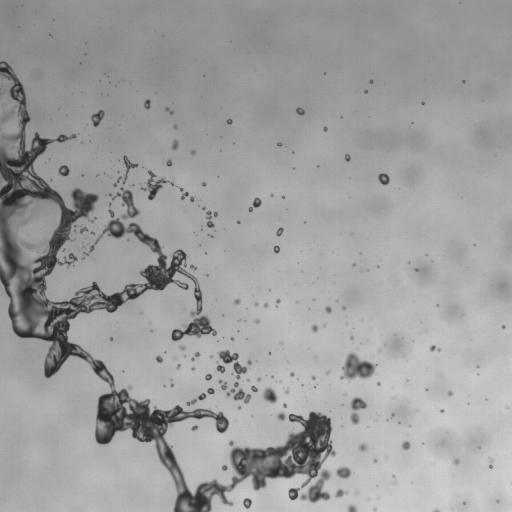droplet: (340, 352, 377, 381), (218, 349, 251, 379), (142, 170, 174, 199), (226, 382, 251, 403), (350, 397, 366, 424), (262, 387, 277, 403), (91, 110, 104, 126), (336, 466, 351, 479), (206, 210, 217, 227), (378, 173, 389, 185), (58, 165, 69, 175), (179, 187, 188, 199), (334, 489, 347, 497), (216, 362, 225, 373), (218, 379, 227, 389), (243, 498, 251, 508), (402, 441, 410, 450), (358, 443, 367, 451), (171, 139, 178, 149), (347, 504, 357, 511), (276, 227, 283, 236), (144, 99, 150, 109), (430, 345, 440, 351), (296, 108, 304, 115), (311, 324, 318, 332), (155, 355, 162, 362), (273, 245, 279, 253), (166, 159, 172, 166), (325, 306, 331, 313), (250, 386, 257, 392), (207, 388, 214, 394), (453, 458, 459, 465), (234, 298, 240, 304), (205, 374, 211, 380), (221, 464, 227, 470), (345, 154, 350, 161), (226, 119, 232, 124), (190, 265, 196, 270), (179, 345, 185, 350), (284, 388, 289, 394), (192, 425, 197, 430), (323, 126, 327, 131), (190, 196, 194, 201), (276, 299, 280, 304), (263, 303, 268, 307), (176, 364, 180, 369), (277, 142, 281, 146), (191, 150, 195, 154), (254, 302, 258, 306), (255, 319, 259, 323), (290, 372, 294, 376), (311, 376, 315, 380), (448, 391, 452, 395), (390, 413, 393, 418), (173, 125, 177, 128), (202, 182, 205, 186), (326, 370, 329, 374), (257, 377, 260, 381), (502, 325, 505, 328), (350, 336, 353, 339), (173, 357, 176, 360), (191, 367, 194, 370), (170, 383, 173, 386), (377, 382, 380, 385), (440, 409, 443, 412), (373, 508, 376, 511), (370, 80, 372, 83), (270, 194, 273, 196), (202, 207, 205, 209), (237, 220, 239, 223), (91, 232, 94, 234), (110, 337, 112, 340), (231, 337, 233, 340), (283, 404, 286, 406), (238, 406, 240, 409), (374, 459, 376, 462), (496, 500, 499, 502), (422, 102, 424, 104), (210, 235, 212, 237), (415, 269, 417, 271), (342, 307, 344, 309), (210, 355, 212, 357), (246, 379, 248, 381)
ligament: (0, 61, 327, 511), (114, 156, 137, 186), (187, 393, 206, 405), (248, 197, 261, 211), (191, 352, 199, 360), (165, 107, 173, 114), (489, 457, 493, 468), (433, 509, 439, 511)
